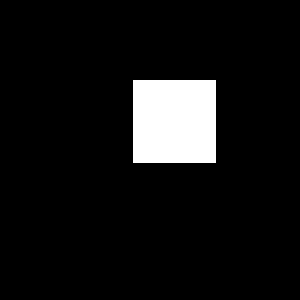circle: (133, 80, 216, 163)
triangle: (142, 106, 176, 140)
